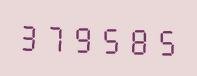eight: (126, 20, 152, 57)
five: (153, 21, 179, 58), (99, 20, 125, 56)
nine: (72, 19, 98, 55)
seven: (44, 18, 70, 55)
three: (17, 17, 43, 54)
